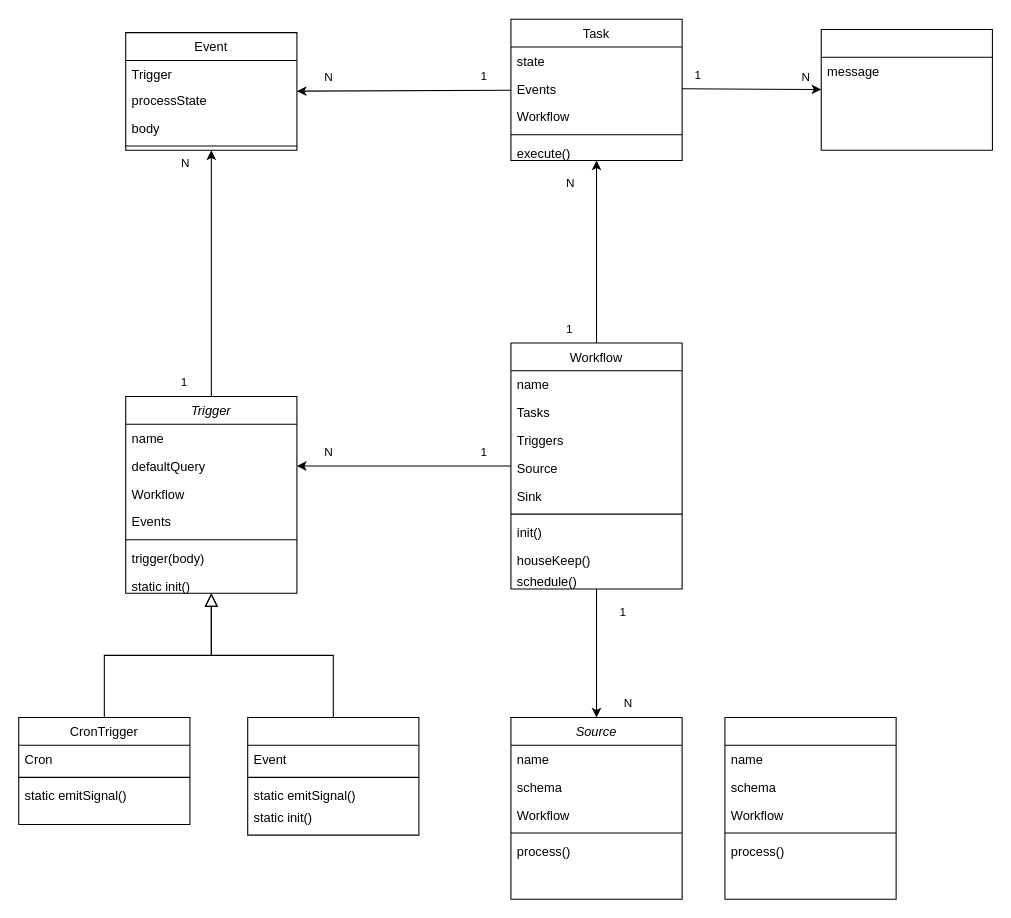
This 1011x918 diagram has some shape labels left out. The box of each missing label's shape, as (x1, y1, x2, y2) in pixels:
Data: (724, 716, 896, 899)
EventBusrigger: (247, 716, 419, 835)
StageLog: (820, 28, 992, 150)
